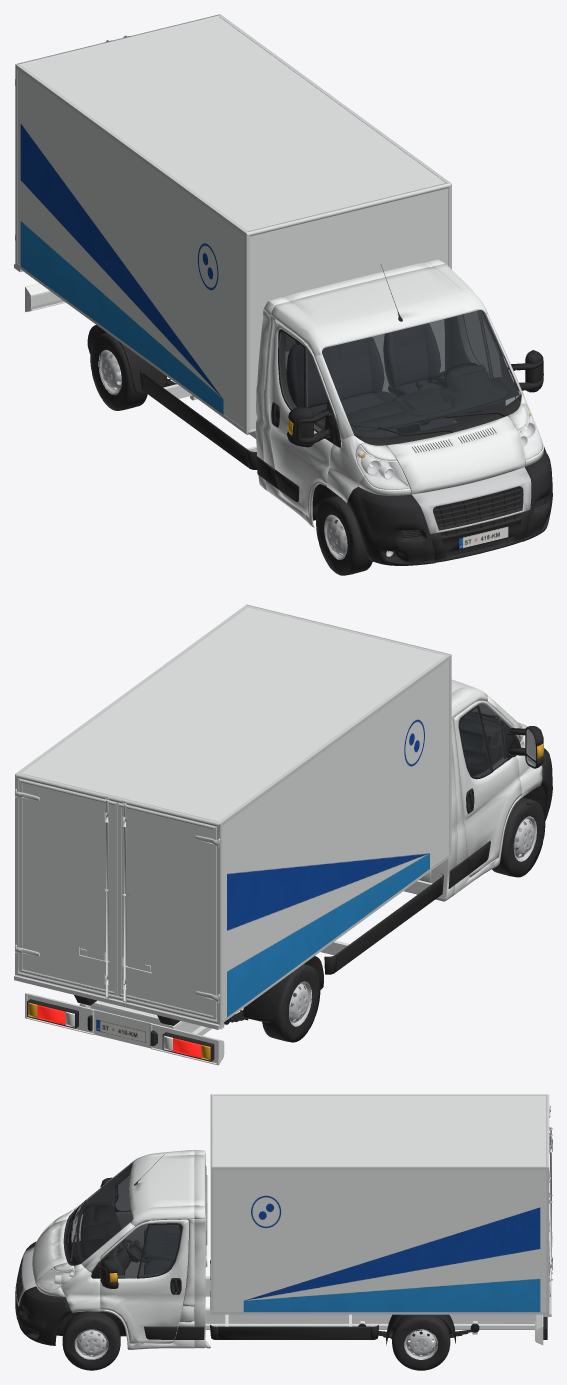
The model's file is kombi-l4h1_lod1.glb.
3 renders of one model, top to bottom at view 1: azimuth 30°, elevation 25°; view 2: azimuth 150°, elevation 25°; view 3: azimuth 270°, elevation 25°, orthographic. The views are drawn at different scales.
Visible parts, largest first — view 1: body, cab_glass, windscreen_fx, firm_marking_R, door_R, wheel_2_mesh, wheel_0_mesh, door_R_glass, door_L_glass; view 2: body, door_rear_L, door_rear_R, firm_marking_R, door_R, wheel_0_mesh, wheel_2_mesh, door_R_glass, rear_floor_sill, plate_rear; view 3: body, firm_marking_L, door_L, cab_glass, windscreen_fx, door_L_glass, wheel_3_mesh, wheel_1_mesh, door_R_glass, door_rear_L, steering_m.
Boxes of the visible parts, box(x1,y1,x2,y2) form: body: box(15, 14, 552, 565); cab_glass: box(285, 310, 520, 437); windscreen_fx: box(322, 310, 520, 436); firm_marking_R: box(20, 123, 223, 414); door_R: box(268, 319, 335, 516); wheel_2_mesh: box(316, 496, 372, 575); wheel_0_mesh: box(90, 332, 147, 410); door_R_glass: box(279, 331, 327, 432); door_L_glass: box(462, 311, 503, 377); body: box(15, 604, 552, 1065); door_rear_L: box(14, 778, 117, 998); door_rear_R: box(117, 801, 219, 1020); firm_marking_R: box(227, 719, 430, 1017); door_R: box(454, 700, 521, 876); wheel_0_mesh: box(262, 964, 320, 1042); wheel_2_mesh: box(492, 797, 545, 877); door_R_glass: box(459, 704, 508, 776); rear_floor_sill: box(14, 972, 224, 1029); plate_rear: box(96, 1019, 145, 1042); body: box(15, 1094, 549, 1349); firm_marking_L: box(243, 1195, 540, 1312); door_L: box(101, 1219, 188, 1343); cab_glass: box(71, 1162, 207, 1263); windscreen_fx: box(72, 1163, 132, 1262); door_L_glass: box(113, 1224, 180, 1278); wheel_3_mesh: box(62, 1311, 120, 1370); wheel_1_mesh: box(392, 1314, 450, 1370); door_R_glass: box(115, 1175, 130, 1210); door_rear_L: box(549, 1133, 552, 1296); steering_m: box(123, 1239, 149, 1262).
Size of the model in its own units: 2.65 by 2.82 by 6.69.
Materials: 26 (3 with a texture image).
